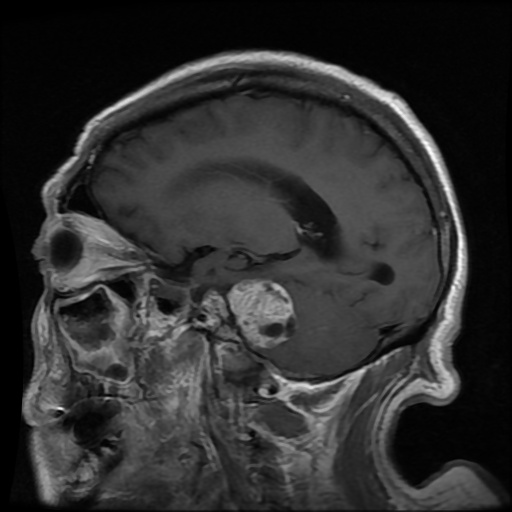meningioma: (229, 277, 294, 349)
